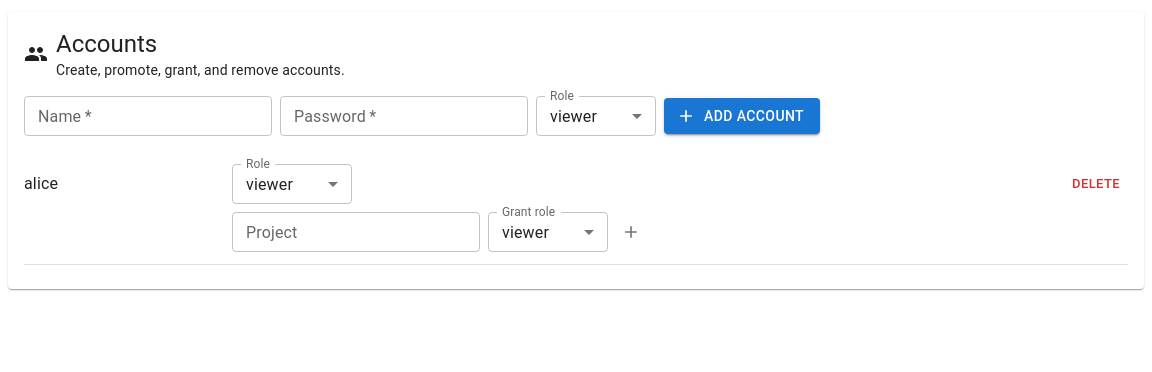
Scenario: a failed grant add surfaces the error
The width and height of the screenshot is (1152, 372).
Type "demo" into the field labelled "Project" at coordinates (356, 232), box [232,212,480,252]
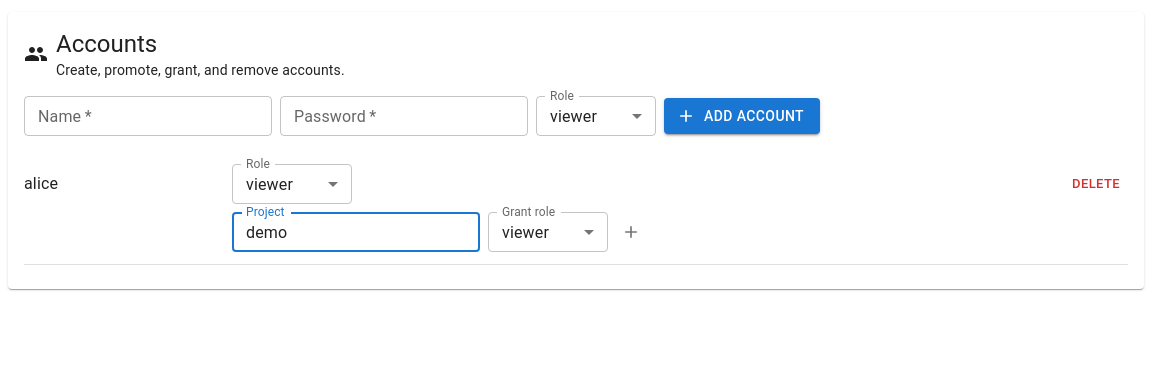
Click the button named "Add grant" at coordinates (631, 232), box [616,217,646,247]
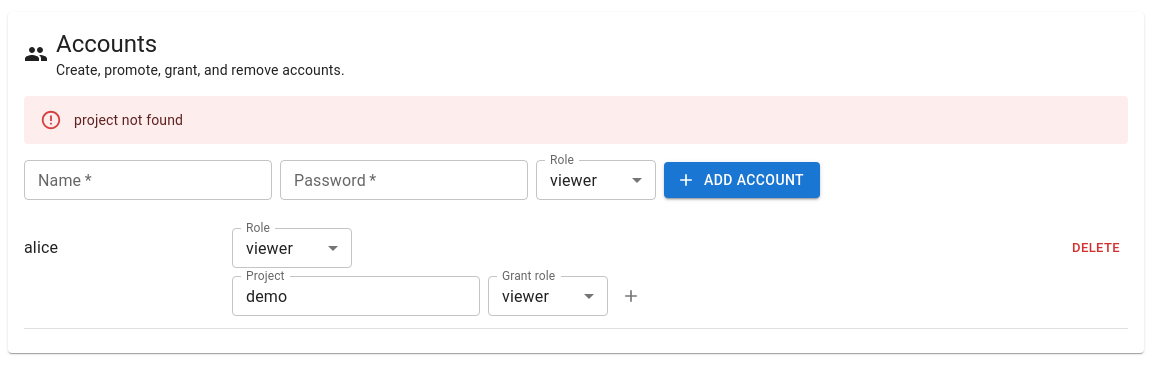
Result: the text "project not found" is shown at [74,112,183,128]
